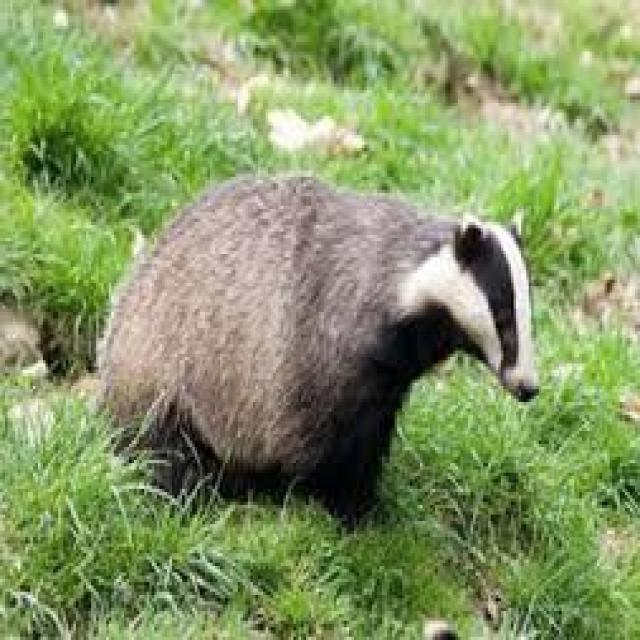badger: (101, 177, 539, 521)
